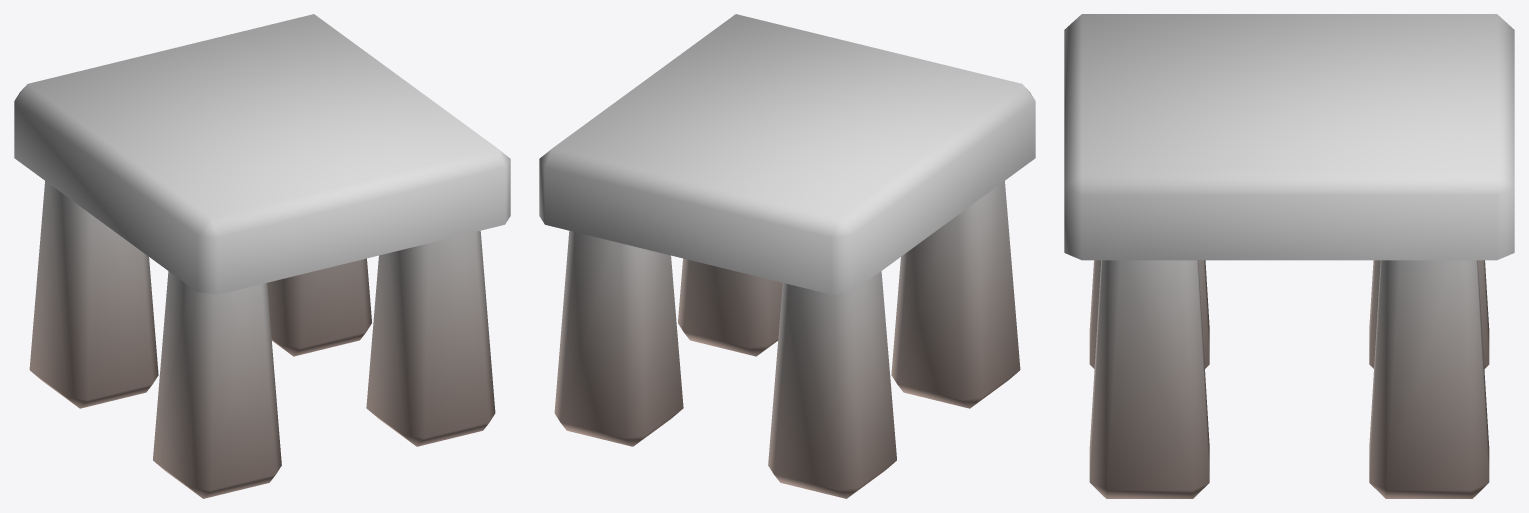
File: NF_Env_Chair 02.fbx
The picture shows the model from 3 angles, left to right: view 1: azimuth 30°, elevation 25°; view 2: azimuth 150°, elevation 25°; view 3: azimuth 270°, elevation 25°; orthographic projection. The views are drawn at different scales.
Parts seen in each view (by area): view 1: Сhair 02; view 2: Сhair 02; view 3: Сhair 02.
Part boxes in pixels (left/top/right/bottom): Сhair 02: left=14, top=14, right=510, bottom=498; Сhair 02: left=539, top=14, right=1035, bottom=498; Сhair 02: left=1064, top=14, right=1514, bottom=498.
Bounding box in the file's own units: 0.8185 × 0.7234 × 0.8991.
